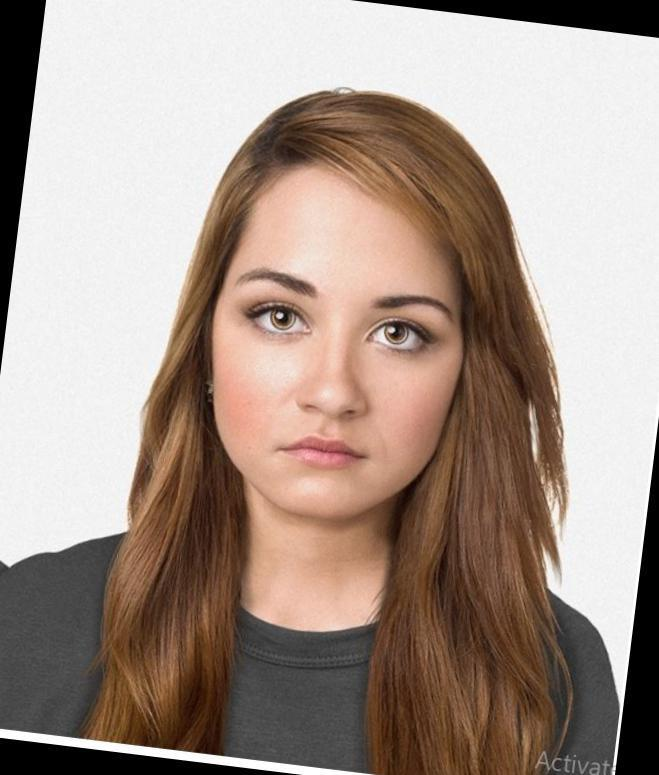Sober: (226, 170, 452, 498)
